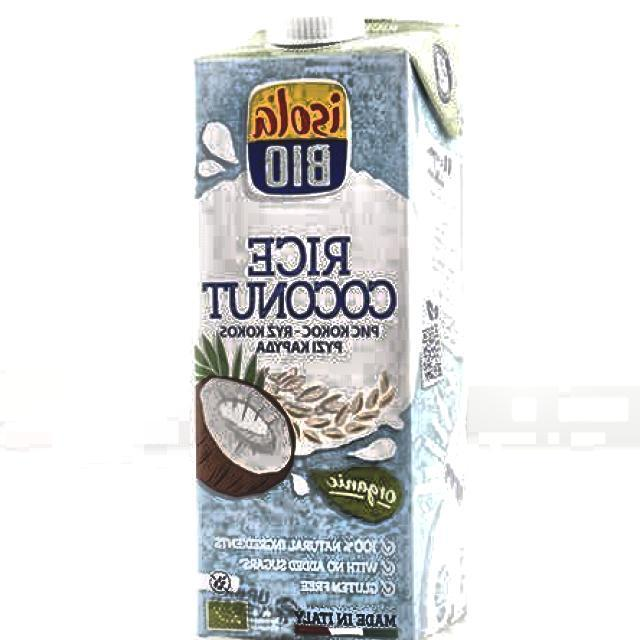cardboard: (192, 16, 470, 640)
